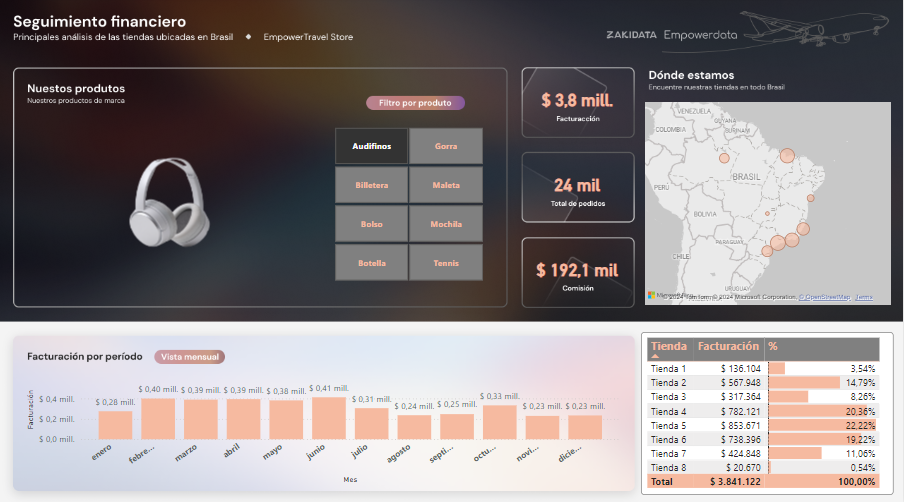

The page's visual inventory and layout, read from the dashboard file:
{"tool":"powerbi","page":{"name":"Página 1","canvas":[1280,720],"ordinal":0},"visuals":[{"type":"columnChart","fields":{"Y":["RegistroVentas.Facturación"],"Category":["RegistroVentas.Fecha_ Pedido.Variación.Jerarquía de fechas.Mes"]},"box":[34.4,528.5,850.6,165.2],"z":0},{"type":"card","fields":{"Values":["RegistroVentas.Facturación"]},"box":[728.1,97.7,181.7,93.6],"z":1000},{"type":"card","fields":{"Values":["Sum(RegistroVentas.Qtde)"]},"box":[728.1,218.8,181.7,93.6],"z":2000},{"type":"card","fields":{"Values":["RegistroVentas.Comisión"]},"box":[728.1,338.6,181.7,93.6],"z":3000},{"type":"slicer","fields":{"Values":["Productos.descripción_producto"]},"box":[450.1,178.9,258.8,229.8],"z":4000},{"type":"tableEx","fields":{"Values":["Tiendas.nombre_Tienda","RegistroVentas.Facturación","Divide(RegistroVentas.Facturación, ScopedEval(RegistroVentas.Facturación, []))"]},"box":[909.8,474.8,357.8,231.2],"z":5000},{"type":"ImageGrid_FC5183B9_926C_45E0_B5F7_0CE9EAF1DA9B","fields":{"ImageURL":["Productos.img_url"]},"box":[34.4,161,406,261.5],"z":6000},{"type":"map","fields":{"Category":["Tiendas.Ciudad"],"Size":["RegistroVentas.Facturación"]},"box":[909.9,143.1,358.6,299.1],"z":7000}]}

Visuals, with their boxes in screenshot pixels (x1, y1, x2, y2), scaled from the page's 1280x720 canvas onto the 904x502 screenshot:
columnChart - RegistroVentas.Facturación x RegistroVentas.Fecha_ Pedido.Variación.Jerarquía de fechas.Mes: Rect(24, 368, 625, 484)
card - RegistroVentas.Facturación: Rect(514, 68, 643, 133)
card - Sum(RegistroVentas.Qtde): Rect(514, 153, 643, 218)
card - RegistroVentas.Comisión: Rect(514, 236, 643, 301)
slicer - Productos.descripción_producto: Rect(318, 125, 501, 285)
tableEx - Tiendas.nombre_Tienda x RegistroVentas.Facturación: Rect(643, 331, 895, 492)
ImageGrid_FC5183B9_926C_45E0_B5F7_0CE9EAF1DA9B - Productos.img_url: Rect(24, 112, 311, 295)
map - Tiendas.Ciudad x RegistroVentas.Facturación: Rect(643, 100, 896, 308)
